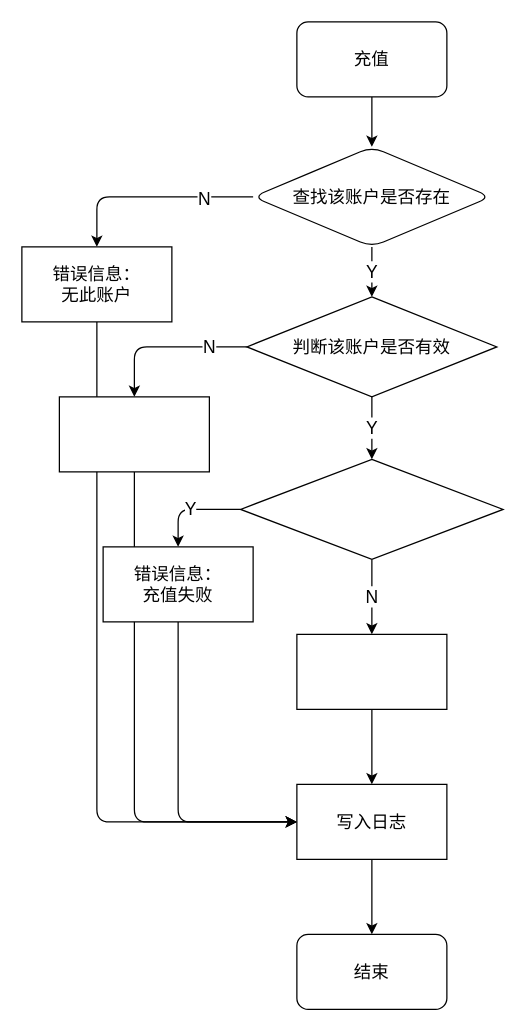
Some shapes in this 525 by 1031 pixel diagram are drawn without their labels. The shapes that lost their labels are listed below. From the top down, each one's box as (x1, y1, x2, y2) in pixels, then its label:
(58, 396, 209, 472): 错误信息： 账户失效
(239, 458, 503, 559): 判断充值后是否越界
(296, 633, 447, 709): 充值操作
